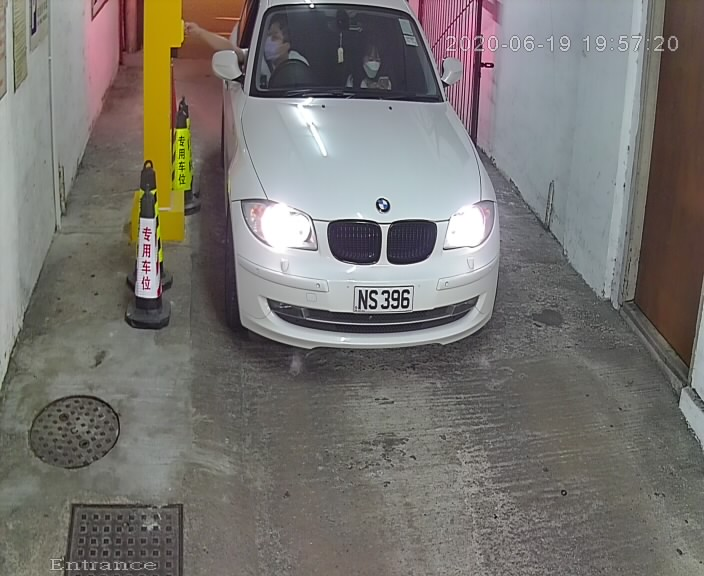privatecar: (218, 3, 509, 366)
